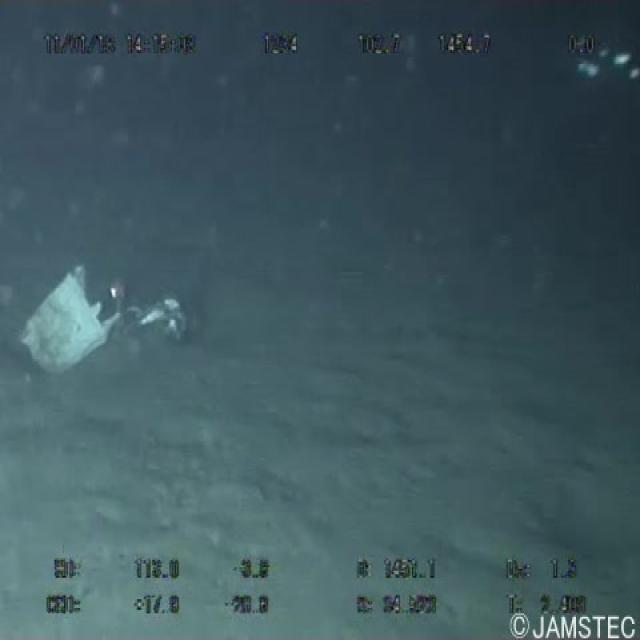plastic: (10, 260, 121, 400)
